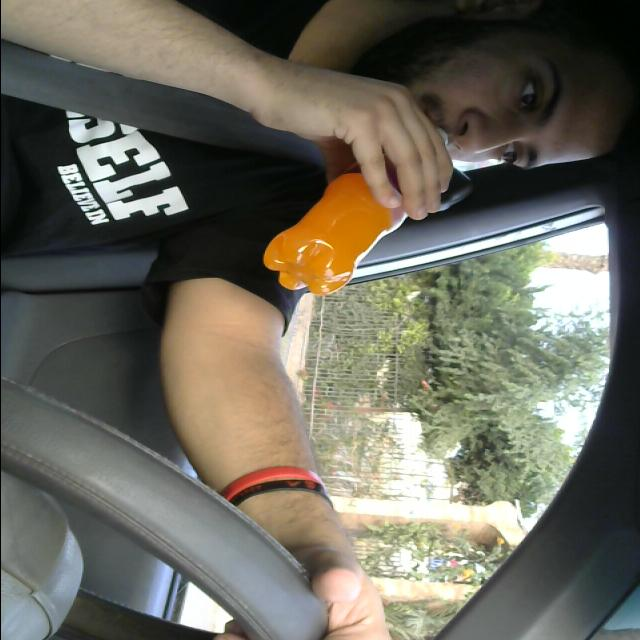drinking: (254, 119, 454, 298)
